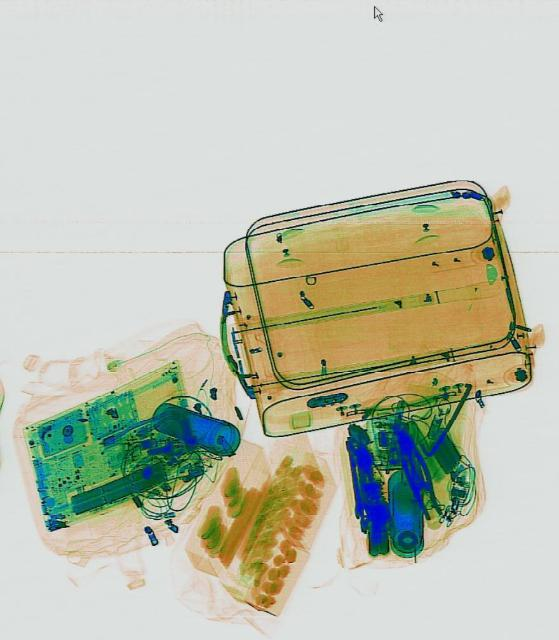Pliers: (389, 426, 446, 522)
